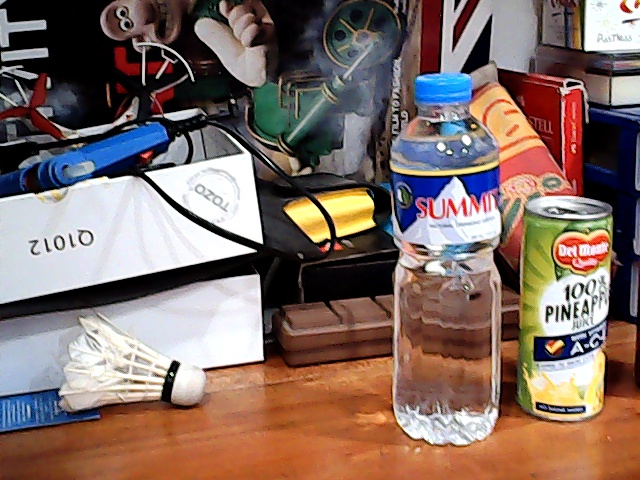Pine Juice: (512, 188, 618, 428)
Summit Water: (381, 69, 509, 455)
